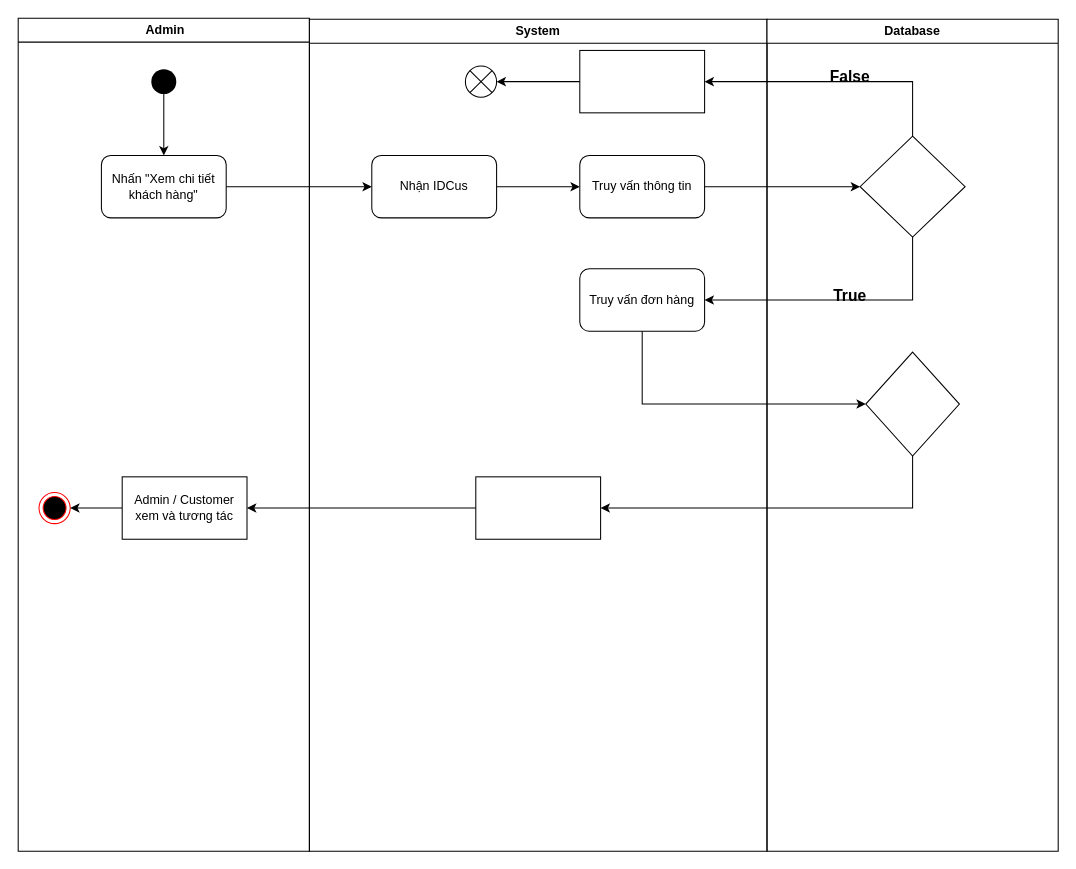
This 1076x869 diagram has some shape labels left out. Here are the shapes that lost their labels. From the top down, the centre of each, then its label:
At (x=642, y=81): "Lỗi / Redirect".
At (x=912, y=186): "Thực thi lệnh Select".
At (x=912, y=403): "Thực thi lệnh Select Order".
At (x=538, y=507): "Hiển thị trang chi tiết khách hàng".
